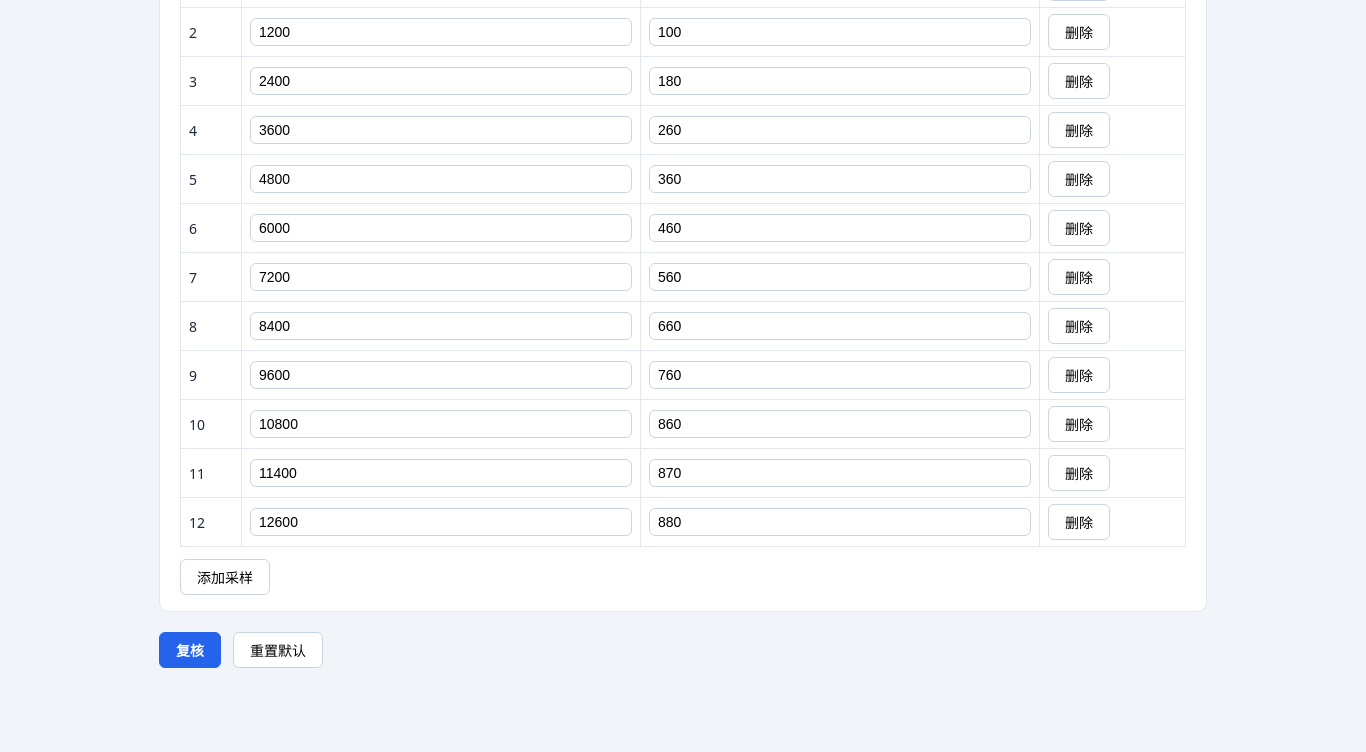
Test: 热暴露复核 › 热暴露请求连接失败：清除旧报告且不误报为窗口输入错误
(page scrolled)
Click the button with test id "adjudicate-button" at x=190, y=650, box [159,632,221,668]
(page scrolled)
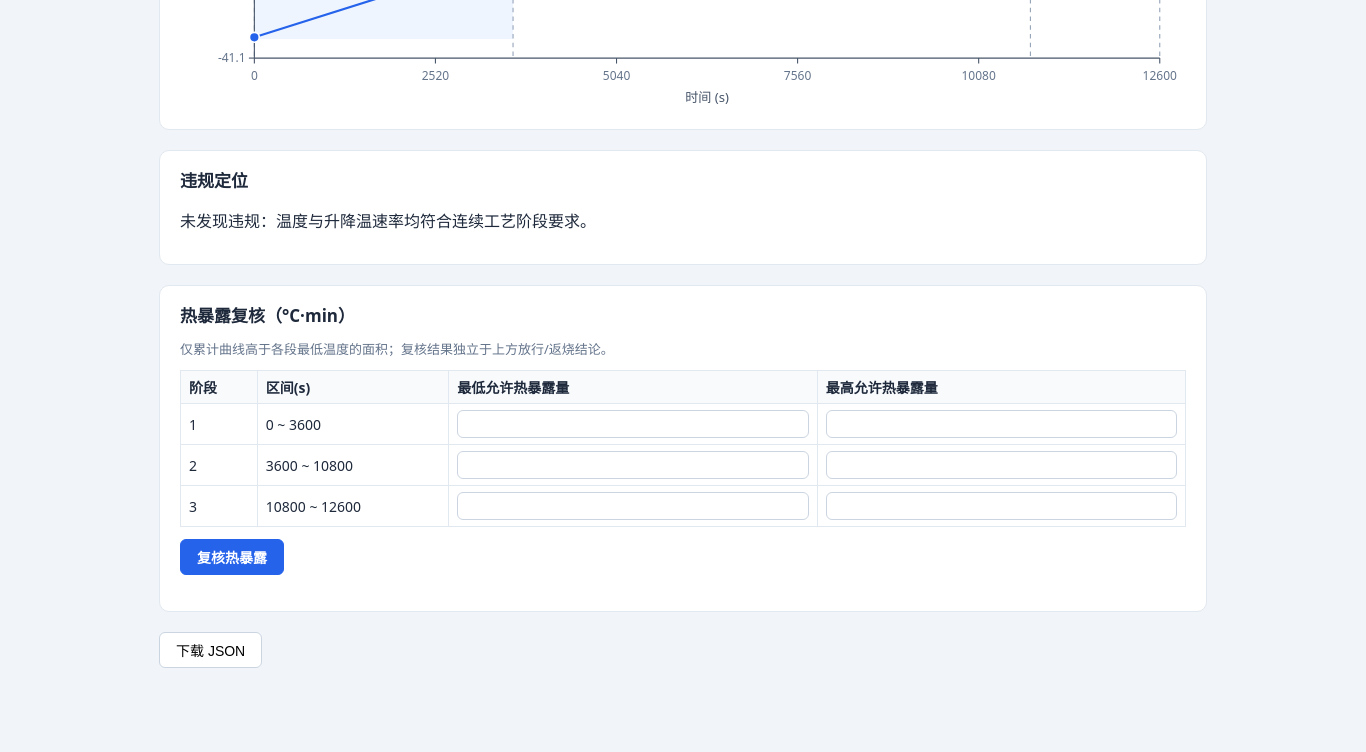
Click the button with test id "exposure-button" at x=232, y=557, box [180,539,284,575]
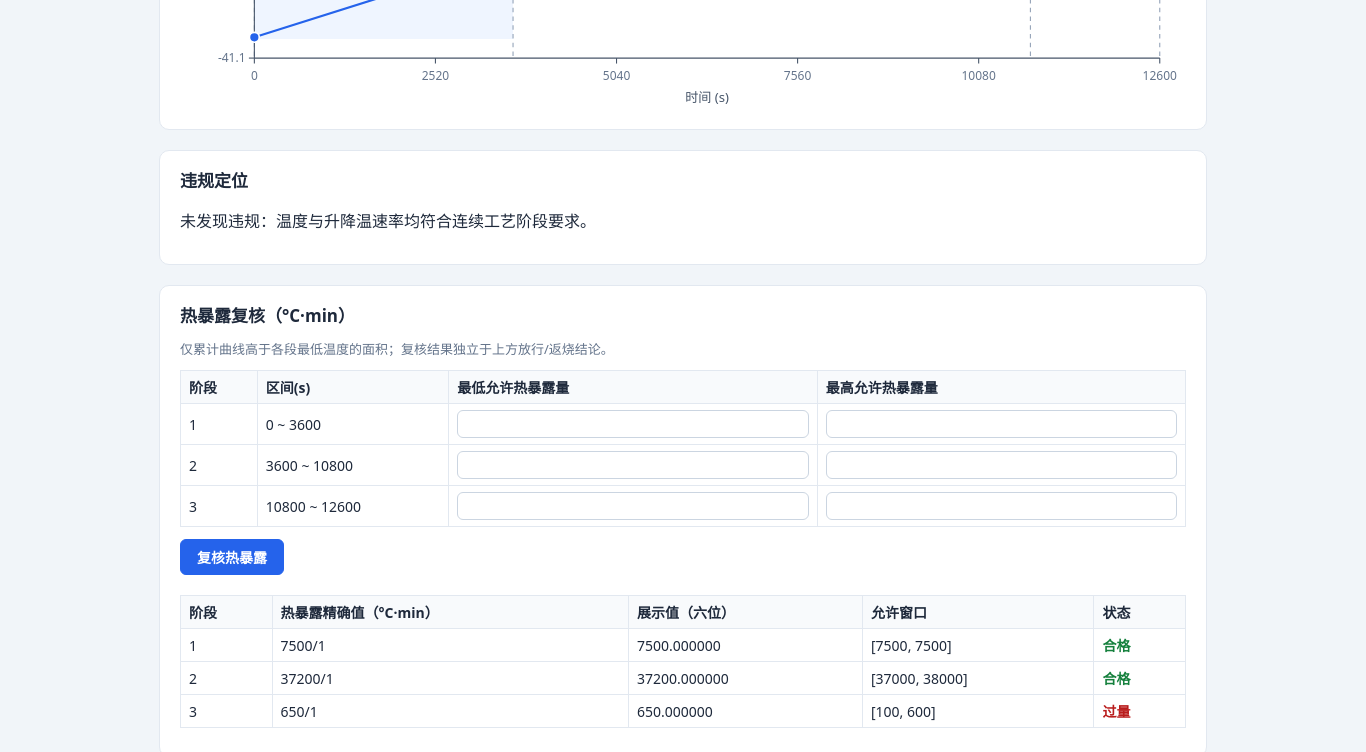
Expected: the table with test id "exposure-report" is shown, [180,595,1186,728]
Click the button with test id "exposure-button" at x=232, y=557, box [180,539,284,575]
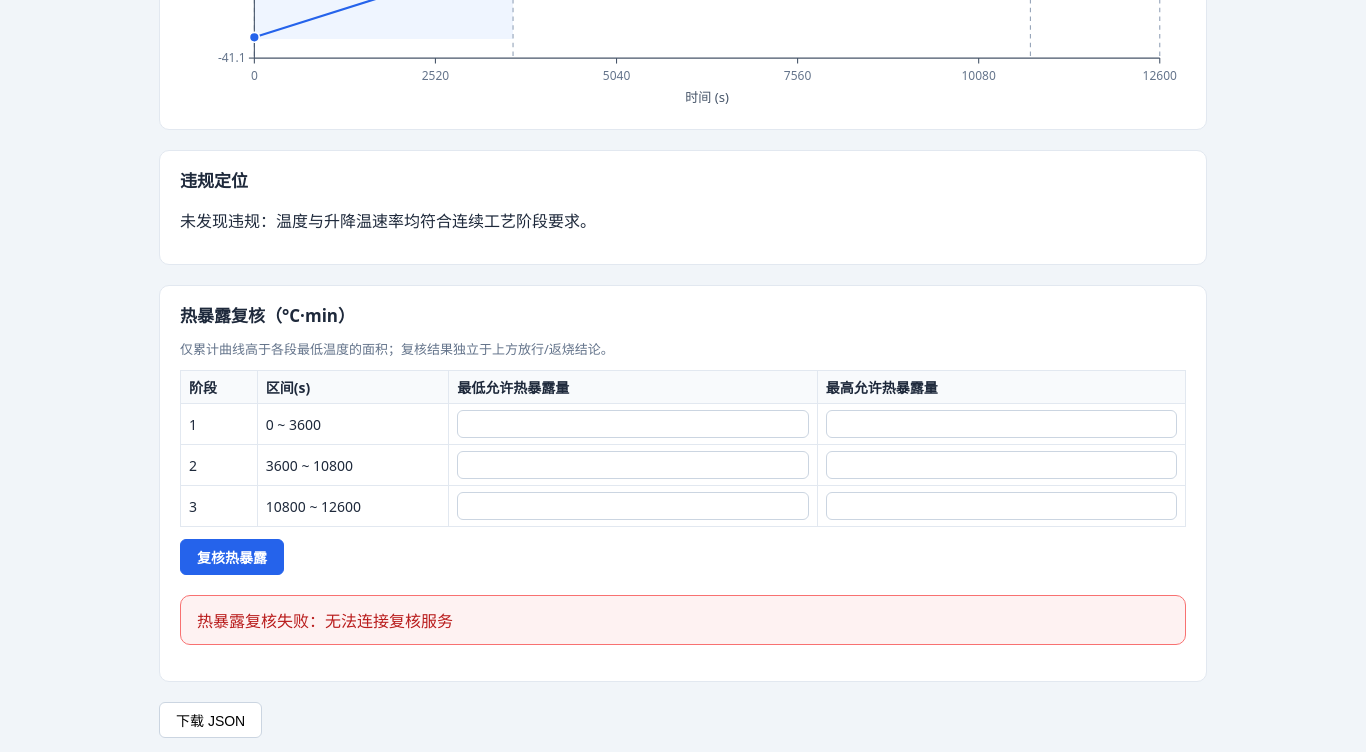
Expected: the message with test id "exposure-error-banner" shows "无法连接复核服务", [197,610,453,632]
Expected: the message with test id "exposure-error-banner" shows "热暴露复核失败", [197,610,453,632]
Expected: the table with test id "exposure-report" is gone
